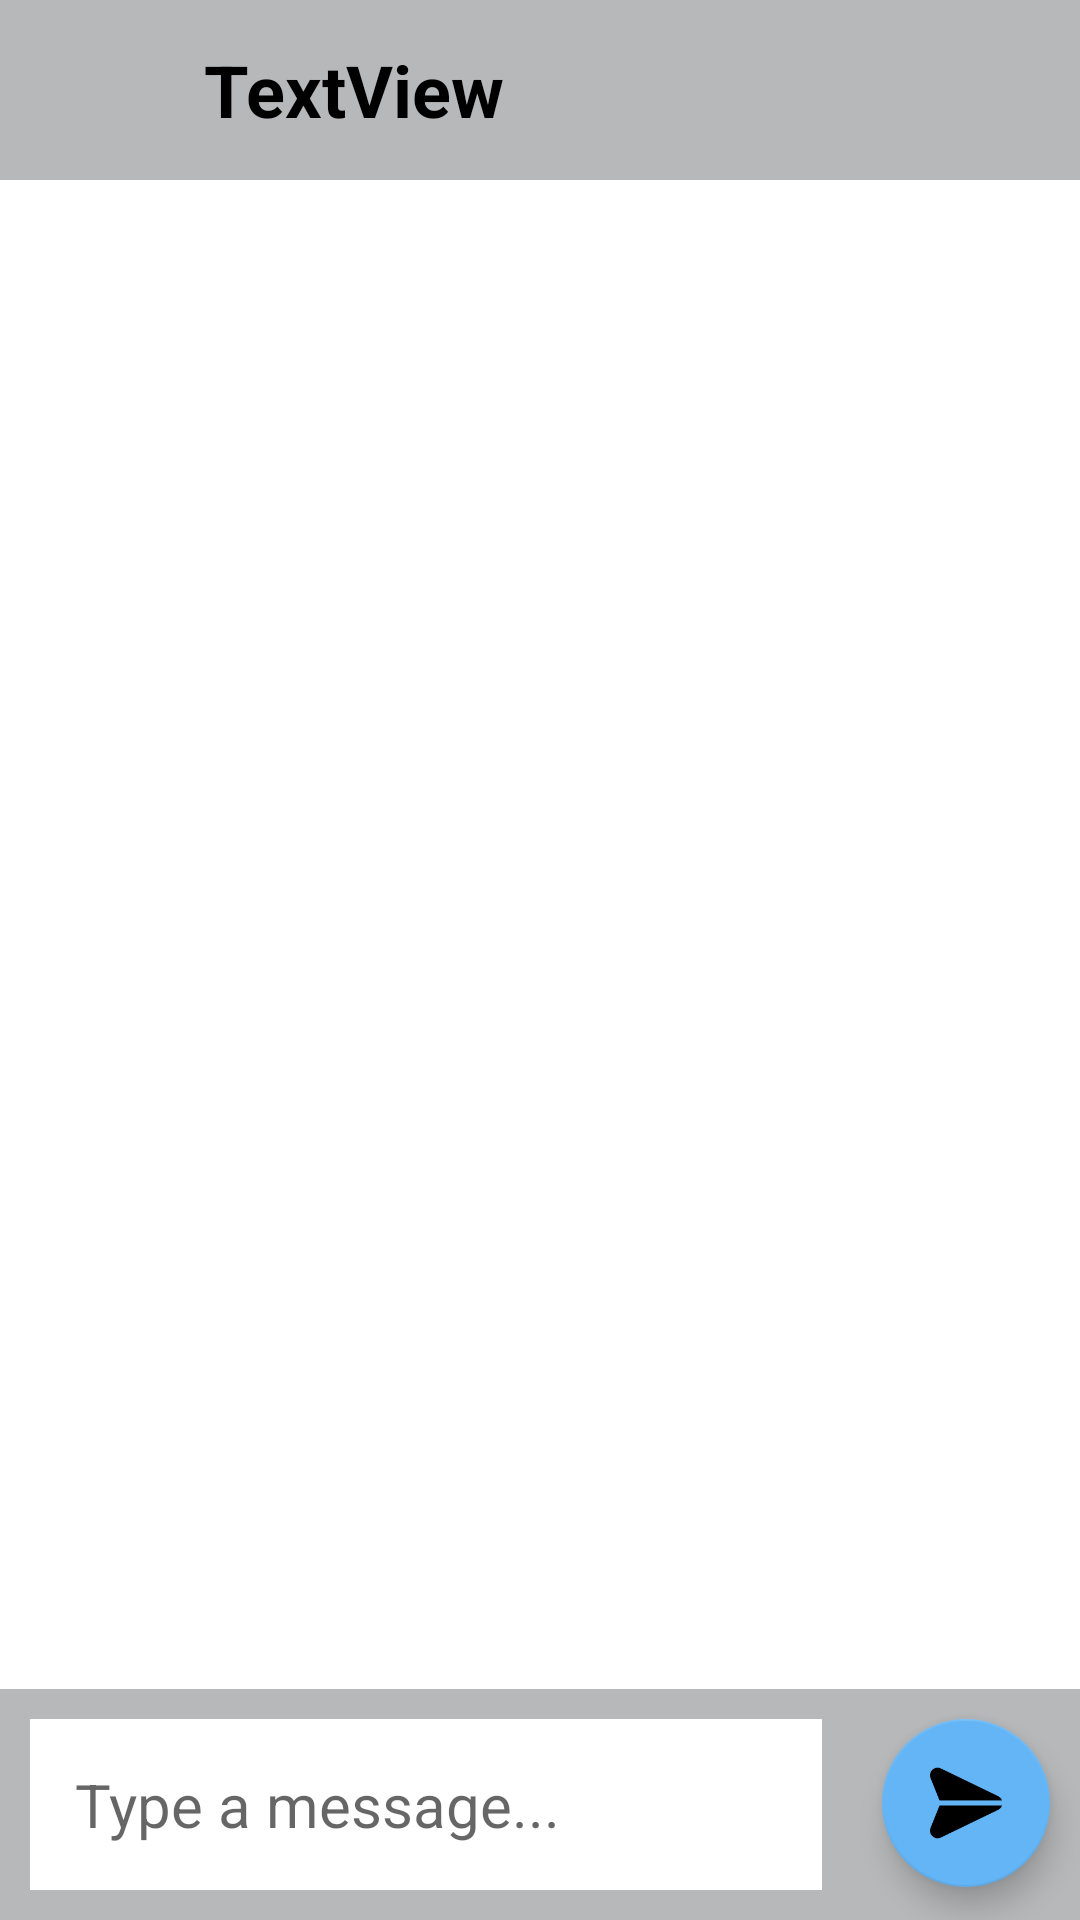

Where to tap for icons on this 1080 × 1920 app screen, as (x=x, y=y):
sendbtn: (x=966, y=1803)
